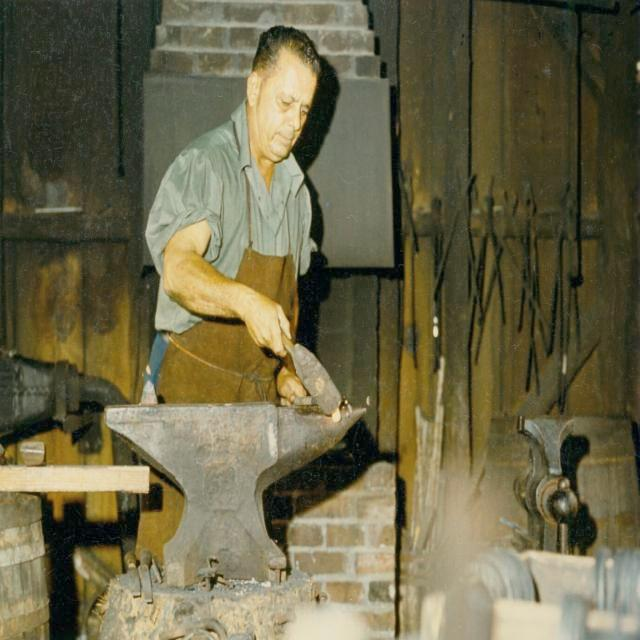hammer: (254, 316, 354, 418)
